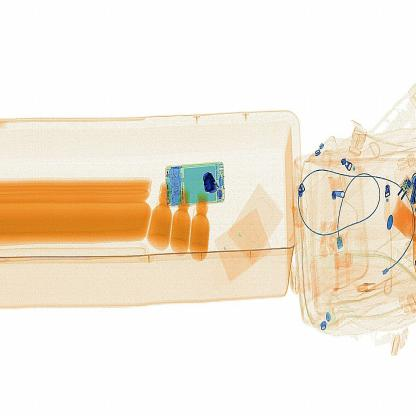scissors: (197, 170, 230, 198)
